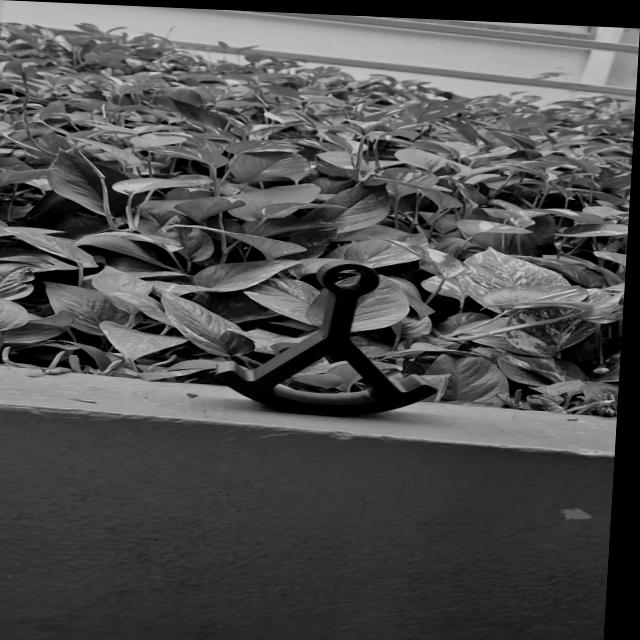haptic: (211, 254, 447, 422)
